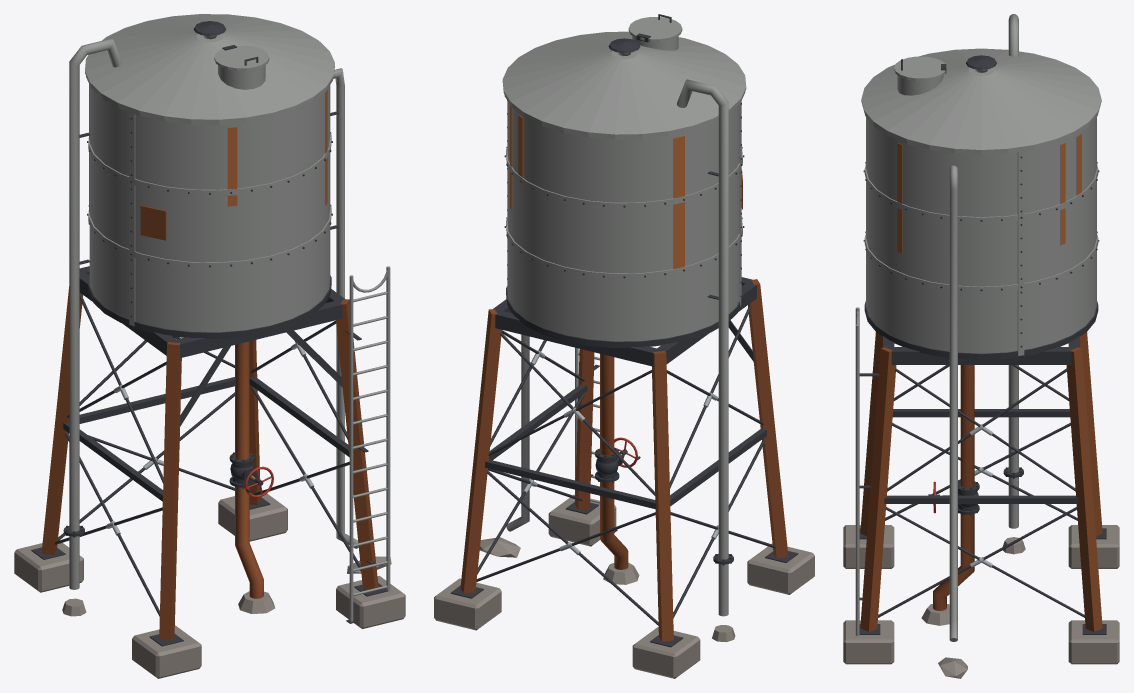
File: deco_water_tank_elevated.fbx
The picture shows the model from 3 angles, left to right: view 1: azimuth 30°, elevation 25°; view 2: azimuth 150°, elevation 25°; view 3: azimuth 270°, elevation 25°; orthographic projection. The views are drawn at different scales.
Parts seen in each view (by area): view 1: WaterTank_Elevated_Tank, WaterTank_Elevated_Stand, WaterTank_Elevated_Pipes, WaterTank_Elevated_Bracing, WaterTank_Elevated_Ladder, WaterTank_Elevated_Hatch; view 2: WaterTank_Elevated_Tank, WaterTank_Elevated_Stand, WaterTank_Elevated_Pipes, WaterTank_Elevated_Bracing, WaterTank_Elevated_Hatch; view 3: WaterTank_Elevated_Tank, WaterTank_Elevated_Stand, WaterTank_Elevated_Pipes, WaterTank_Elevated_Bracing, WaterTank_Elevated_Ladder, WaterTank_Elevated_Hatch.
Boxes of the visible parts, x1,y1,x2,y2 form: WaterTank_Elevated_Tank: (85, 14, 334, 338); WaterTank_Elevated_Stand: (14, 266, 405, 678); WaterTank_Elevated_Pipes: (62, 38, 391, 616); WaterTank_Elevated_Bracing: (55, 294, 361, 616); WaterTank_Elevated_Ladder: (345, 266, 390, 623); WaterTank_Elevated_Hatch: (214, 45, 269, 70); WaterTank_Elevated_Tank: (502, 31, 746, 347); WaterTank_Elevated_Stand: (434, 277, 814, 678); WaterTank_Elevated_Pipes: (479, 79, 735, 642); WaterTank_Elevated_Bracing: (476, 304, 775, 625); WaterTank_Elevated_Hatch: (628, 14, 682, 42); WaterTank_Elevated_Tank: (861, 48, 1101, 359); WaterTank_Elevated_Stand: (843, 332, 1119, 664); WaterTank_Elevated_Pipes: (921, 14, 1025, 678); WaterTank_Elevated_Bracing: (878, 365, 1087, 617); WaterTank_Elevated_Ladder: (855, 307, 880, 635); WaterTank_Elevated_Hatch: (894, 56, 946, 80).
Size of the model in its own units: 355 by 655 by 299.
